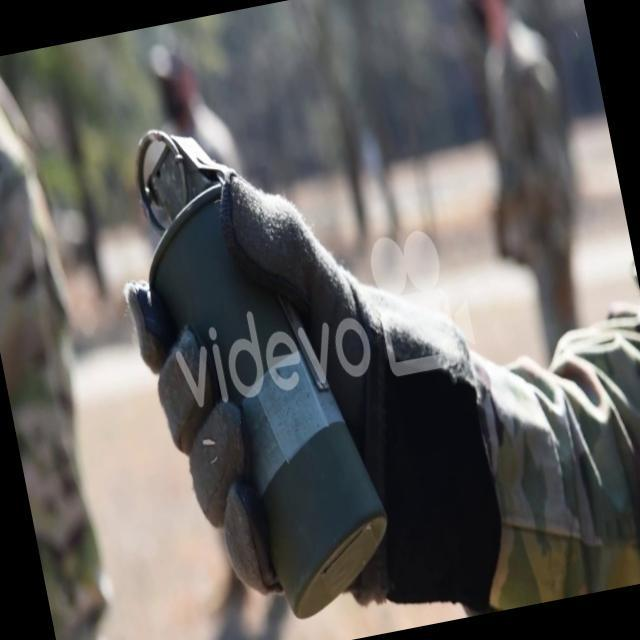grenade: (104, 98, 403, 635)
